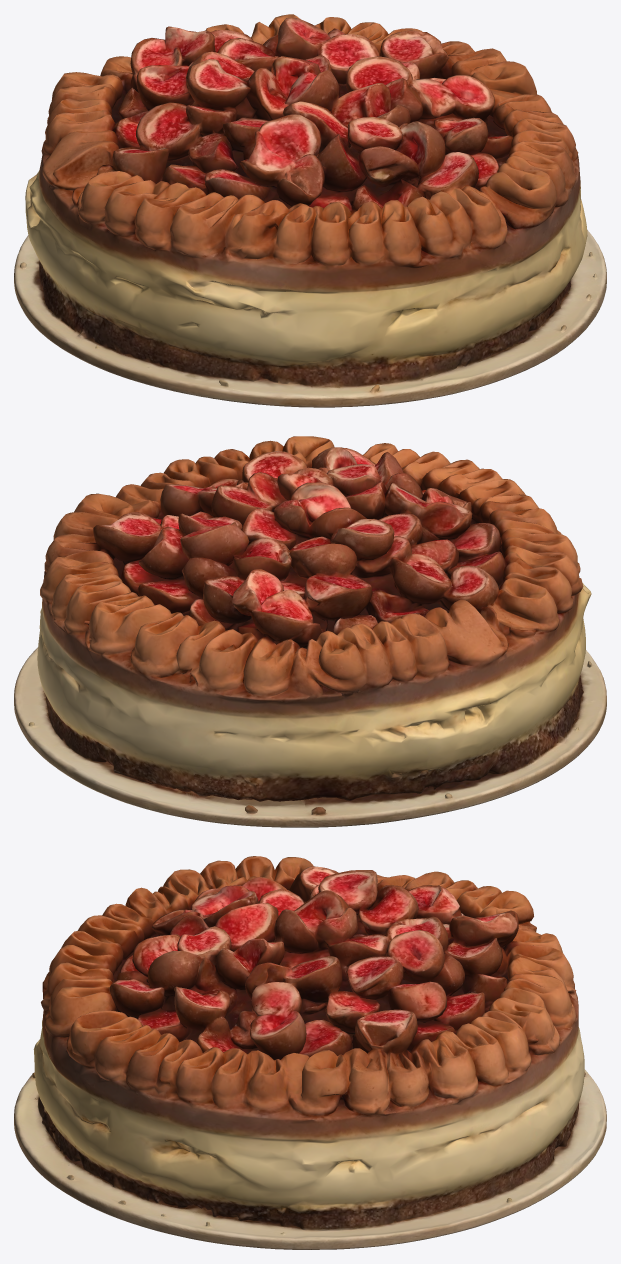
Rendered from Franui.glb.
3 views of the same model, one above another, from view 1: azimuth 30°, elevation 25°; view 2: azimuth 150°, elevation 25°; view 3: azimuth 270°, elevation 25° (orthographic).
Visible parts, largest first — view 1: tripo_node_d0a848d2-b3e3-4681-b71a-f3b46dfbfe5b; view 2: tripo_node_d0a848d2-b3e3-4681-b71a-f3b46dfbfe5b; view 3: tripo_node_d0a848d2-b3e3-4681-b71a-f3b46dfbfe5b.
Part boxes in pixels (x1,y1,x2,y2): tripo_node_d0a848d2-b3e3-4681-b71a-f3b46dfbfe5b: [14, 14, 606, 407]; tripo_node_d0a848d2-b3e3-4681-b71a-f3b46dfbfe5b: [14, 436, 606, 827]; tripo_node_d0a848d2-b3e3-4681-b71a-f3b46dfbfe5b: [14, 856, 606, 1249].
Bounding box in the file's own units: 0.2446 × 0.0994 × 0.246.
Materials: 1 (1 with a texture image).
